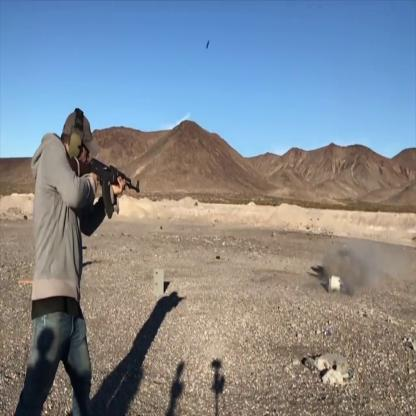long weapon: (53, 146, 146, 220)
